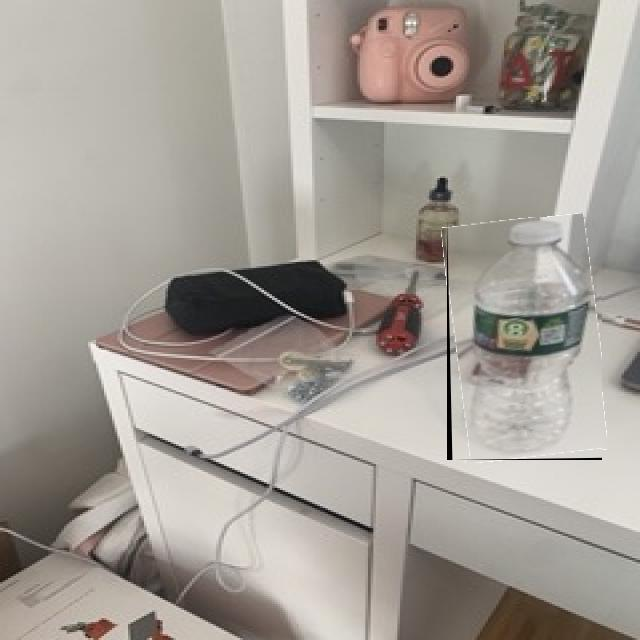water_bottle: (447, 217, 602, 460)
